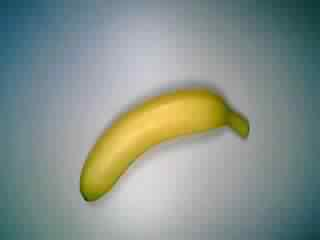banana: (77, 88, 259, 206)
